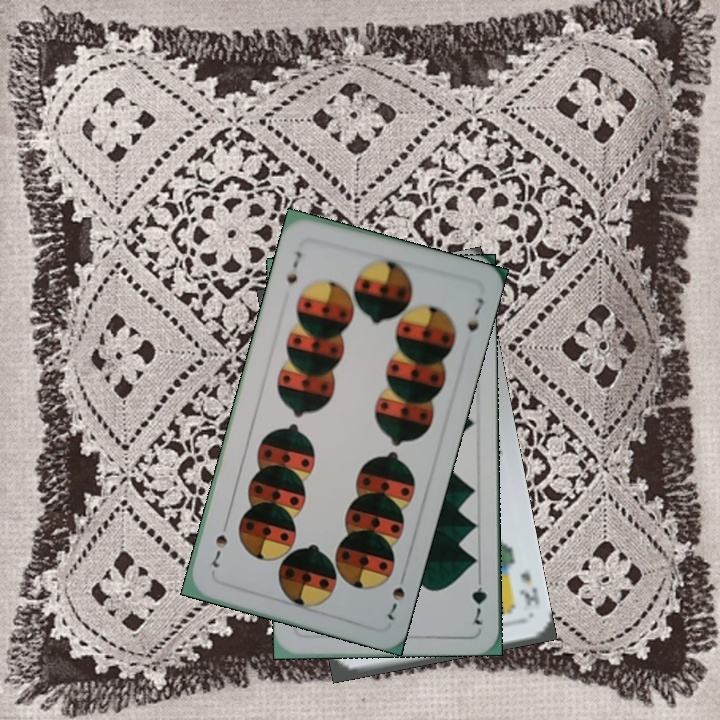EK: (515, 567, 542, 608)
G7: (467, 570, 490, 628)
S7: (383, 567, 409, 623), (282, 247, 305, 286)
